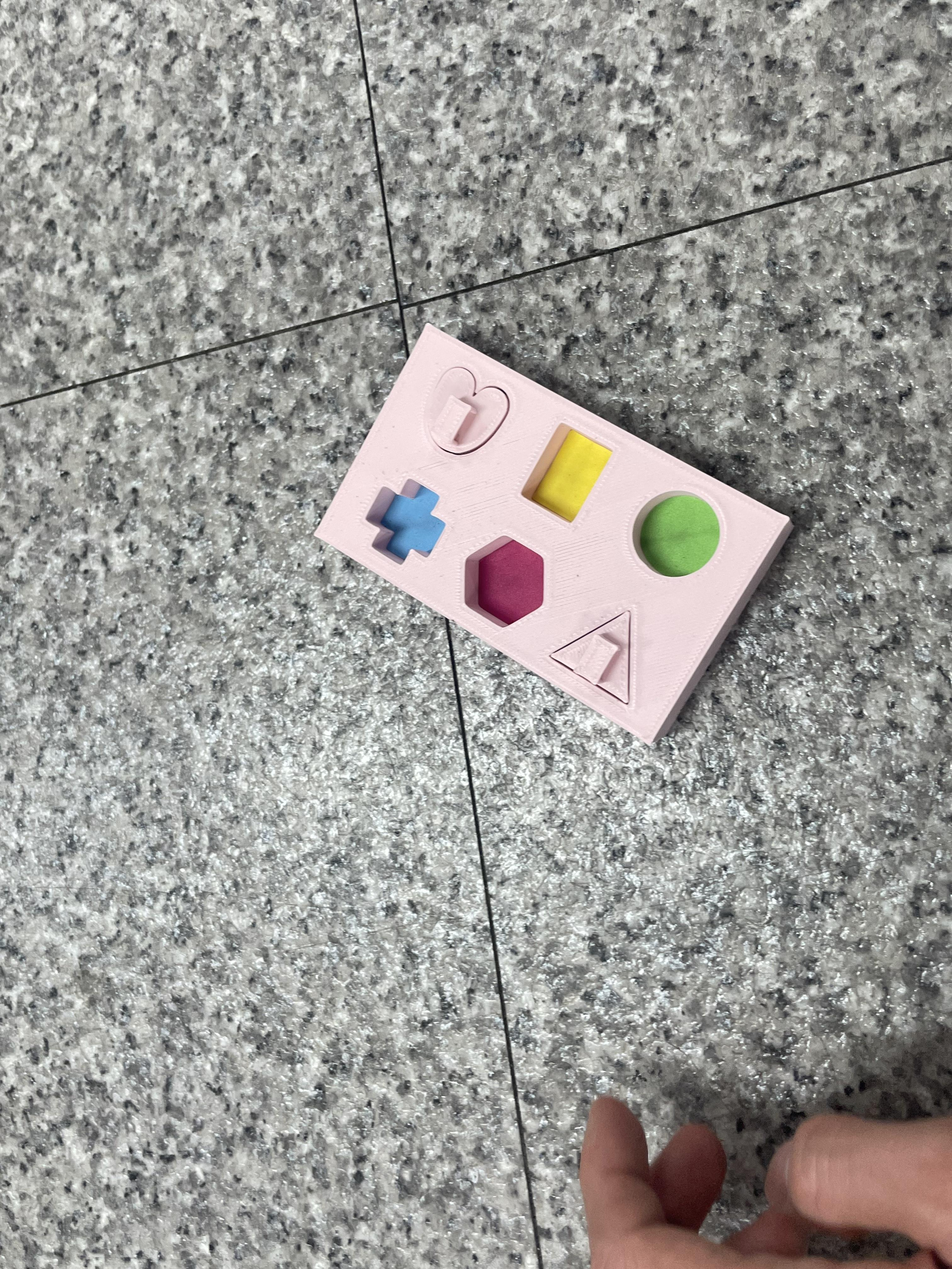unsolved: (312, 309, 813, 767)
